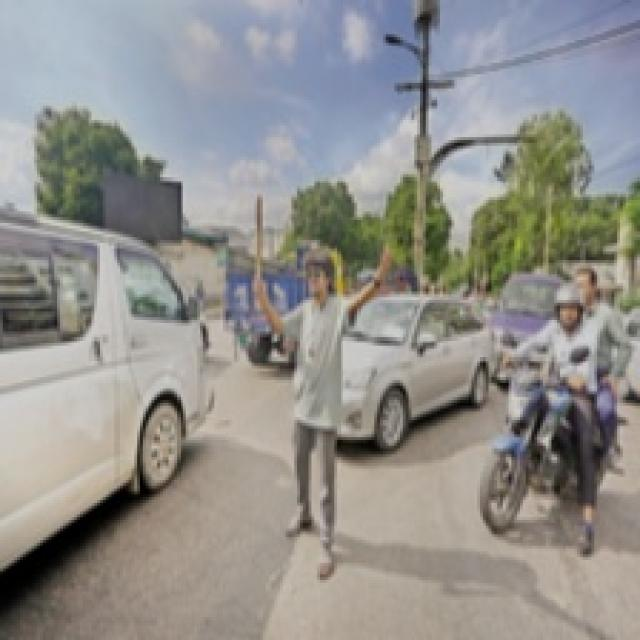bike: (475, 354, 633, 536)
car: (4, 196, 217, 535), (333, 289, 479, 434)
